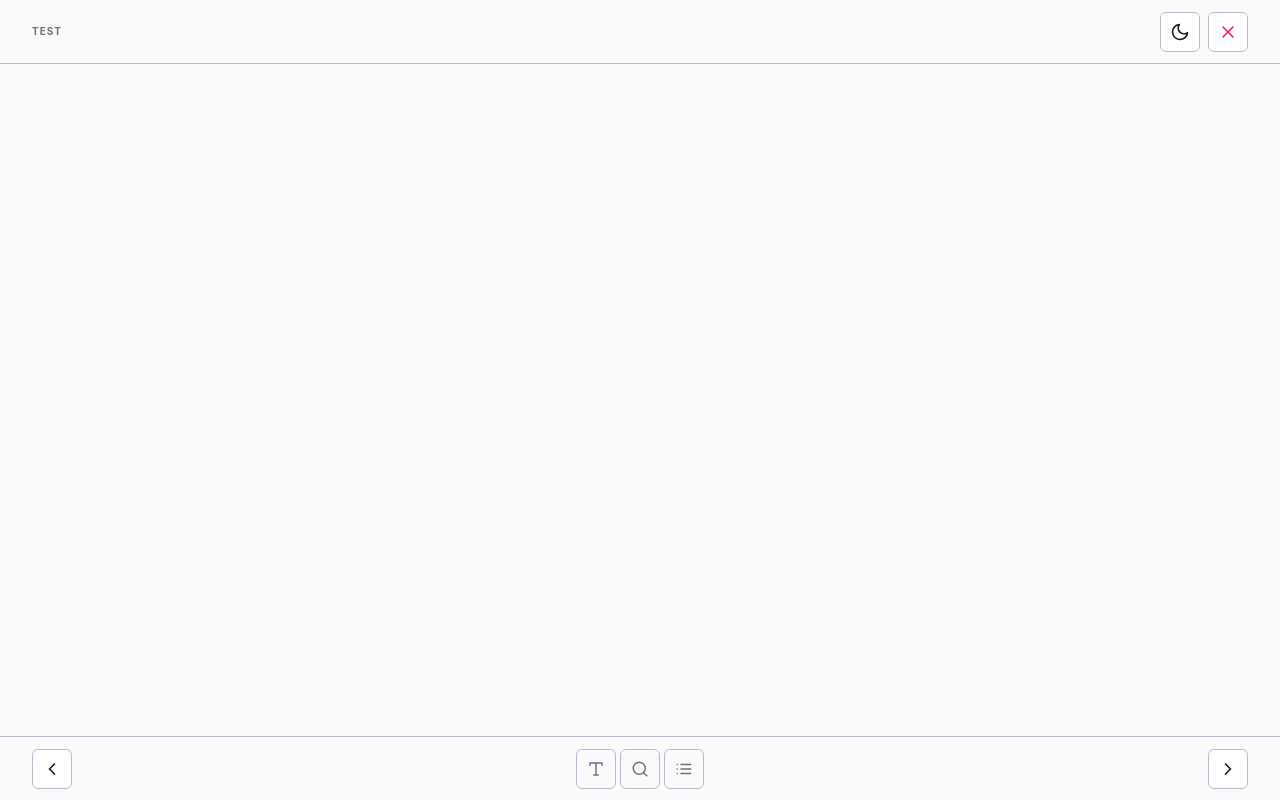
Test case: ReaderOverlay › toggles settings panel when settings button is clicked
Expected: the text "font size (px)" is not shown
Step 1. Click the button named "Typography settings" → (596, 768), box [576,748,616,788]
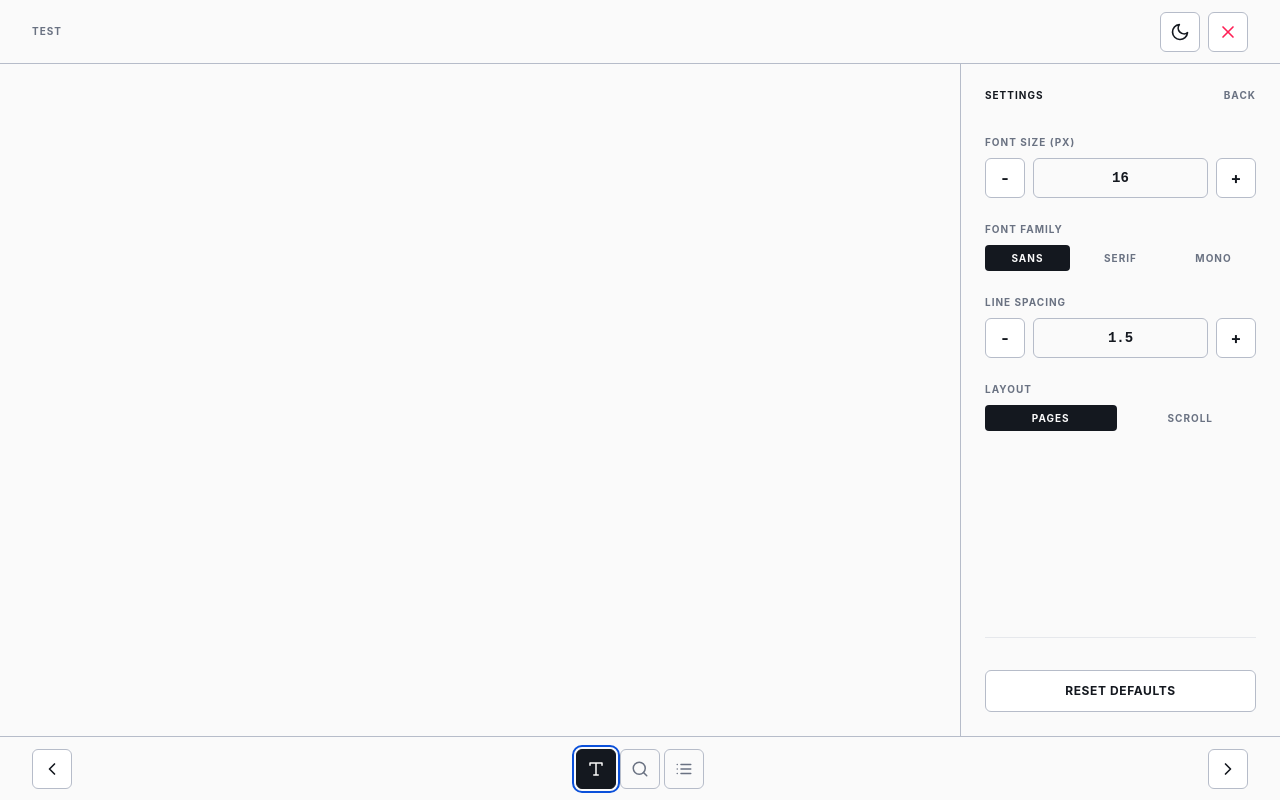
Now the text "font size (px)" is shown, box [985,136,1075,148]
